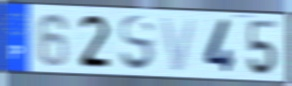2: (77, 14, 113, 71)
4: (203, 16, 239, 77)
5: (246, 18, 279, 78)
6: (36, 12, 69, 68)
S: (118, 13, 157, 74)
V: (158, 15, 199, 74)
